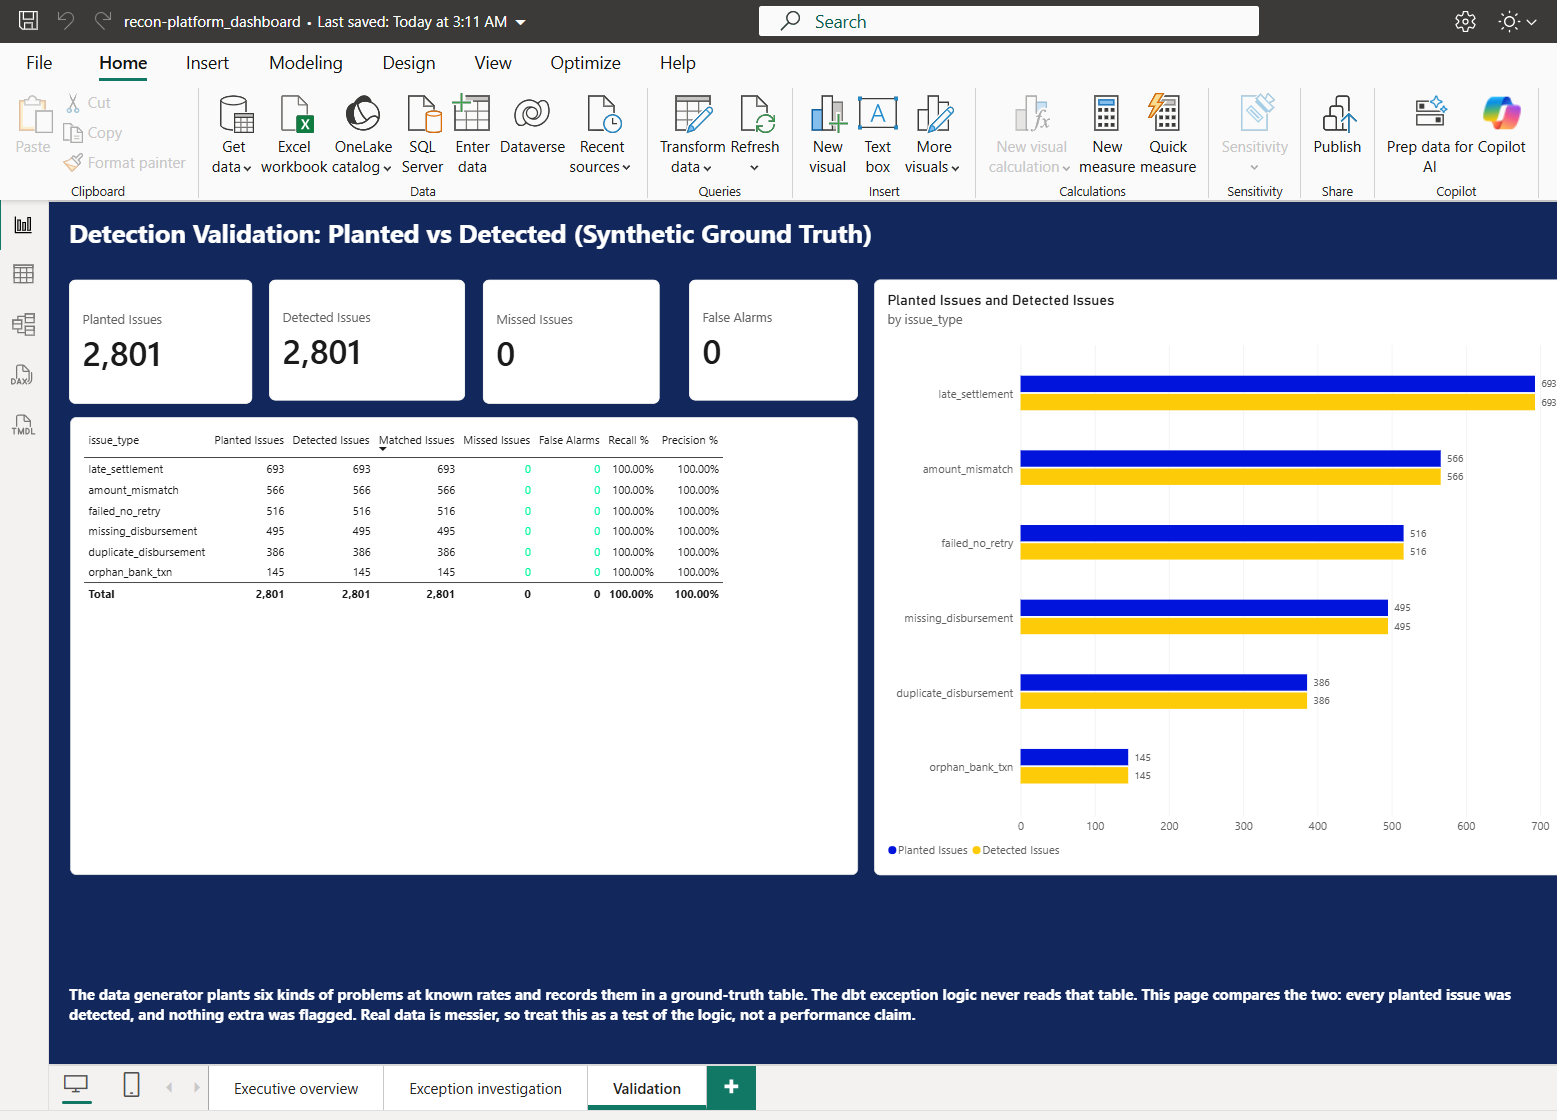

The dashboard page shown, as its layout file describes it:
{"tool":"powerbi","page":{"name":"Validation","canvas":[1920,1080],"ordinal":2},"visuals":[{"type":"clusteredBarChart","fields":{"Category":["qa_detection_scorecard.issue_type"],"Y":["qa_detection_scorecard.Planted Issues","qa_detection_scorecard.Detected Issues"]},"box":[1035.3,96.7,887.1,747.2],"z":0},{"type":"tableEx","fields":{"Values":["qa_detection_scorecard.issue_type","qa_detection_scorecard.Planted Issues","qa_detection_scorecard.Detected Issues","qa_detection_scorecard.Matched Issues","qa_detection_scorecard.Missed Issues","qa_detection_scorecard.False Alarms","qa_detection_scorecard.Recall %","qa_detection_scorecard.Precision %"]},"box":[26.8,269.6,988,574.3],"z":1000},{"type":"textbox","box":[24.7,16.5,1259.7,43.2],"z":2000},{"type":"textbox","box":[24.7,981.8,1827.8,65.9],"z":3000},{"type":"cardVisual","fields":{"Data":["qa_detection_scorecard.Planted Issues"]},"box":[24.7,96.7,230.5,156.4],"z":4000},{"type":"cardVisual","fields":{"Data":["qa_detection_scorecard.Detected Issues"]},"box":[275.8,96.7,247,152.3],"z":5000},{"type":"cardVisual","fields":{"Data":["qa_detection_scorecard.Missed Issues"]},"box":[543.4,96.7,222.3,156.4],"z":6000},{"type":"cardVisual","fields":{"Data":["qa_detection_scorecard.False Alarms"]},"box":[802.7,96.7,212,152.3],"z":7000}]}

Visuals, with their boxes in screenshot pixels (x1, y1, x2, y2):
clusteredBarChart - qa_detection_scorecard.issue_type x qa_detection_scorecard.Planted Issues: region(873, 276, 1556, 874)
tableEx - qa_detection_scorecard.issue_type x qa_detection_scorecard.Planted Issues: region(66, 414, 856, 874)
textbox: region(64, 212, 1072, 246)
textbox: region(64, 984, 1526, 1037)
cardVisual - qa_detection_scorecard.Planted Issues: region(64, 276, 249, 401)
cardVisual - qa_detection_scorecard.Detected Issues: region(265, 276, 463, 398)
cardVisual - qa_detection_scorecard.Missed Issues: region(479, 276, 657, 401)
cardVisual - qa_detection_scorecard.False Alarms: region(687, 276, 856, 398)
